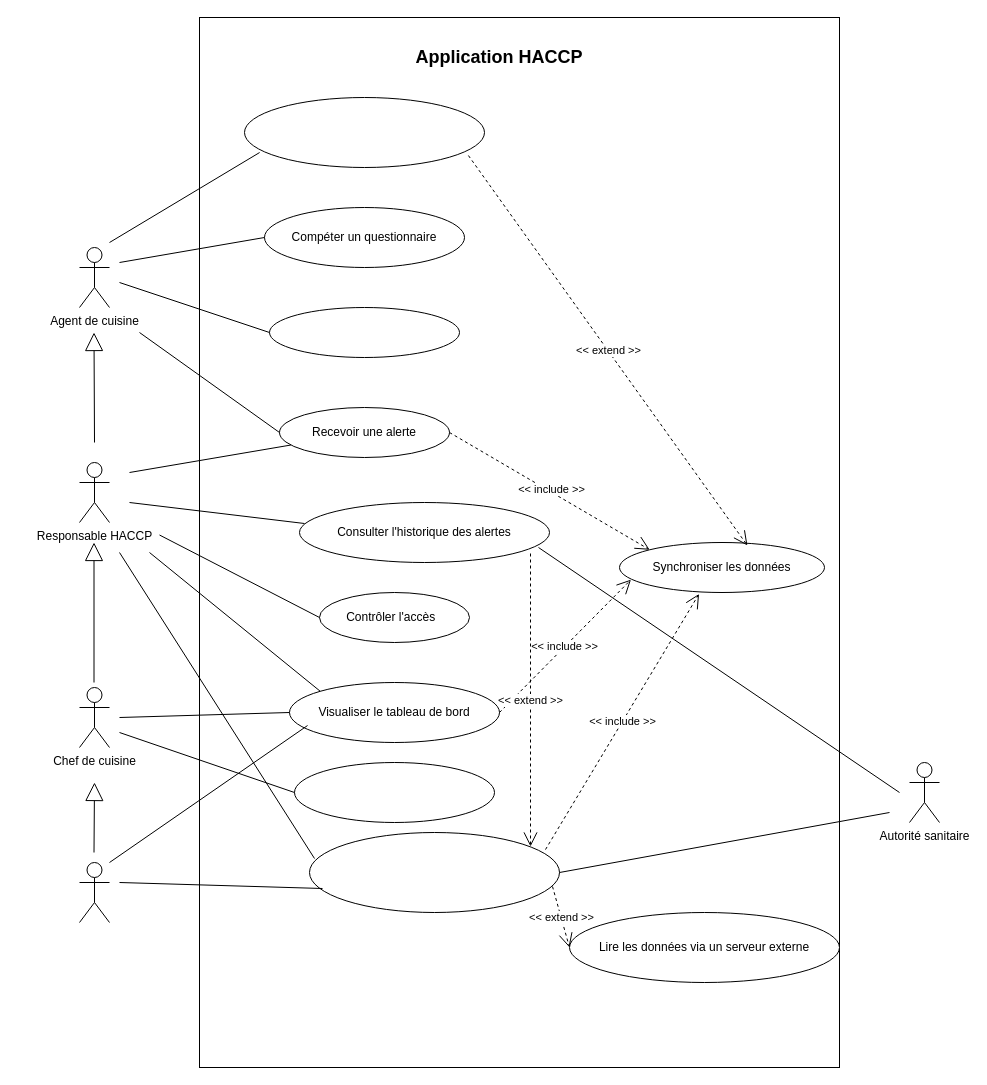
This 987x1085 diagram has some shape labels left out. The centre of each missing label's shape, as x and y in pixels:
"Consulter les tutoriels" goes at pixel 364 332.
"Exporter un rapport de conformité" goes at pixel 434 872.
"Gestionnaire d'établissement" goes at pixel 94 892.
"Paramétrer les valeurs" goes at pixel 394 792.
"Saisir une donnée manuellement" goes at pixel 364 132.
